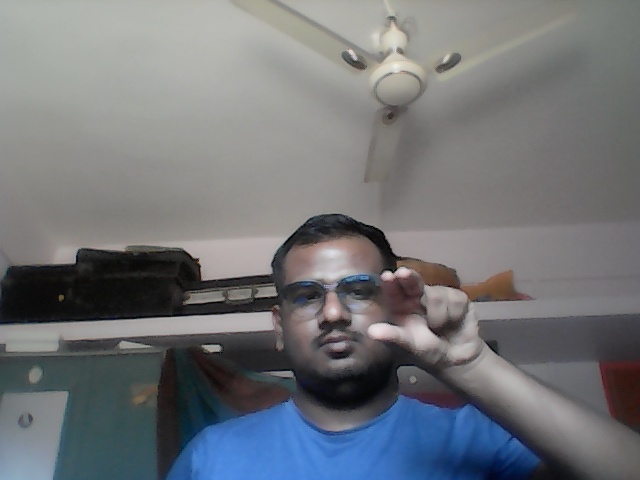No: (367, 267, 487, 365)
